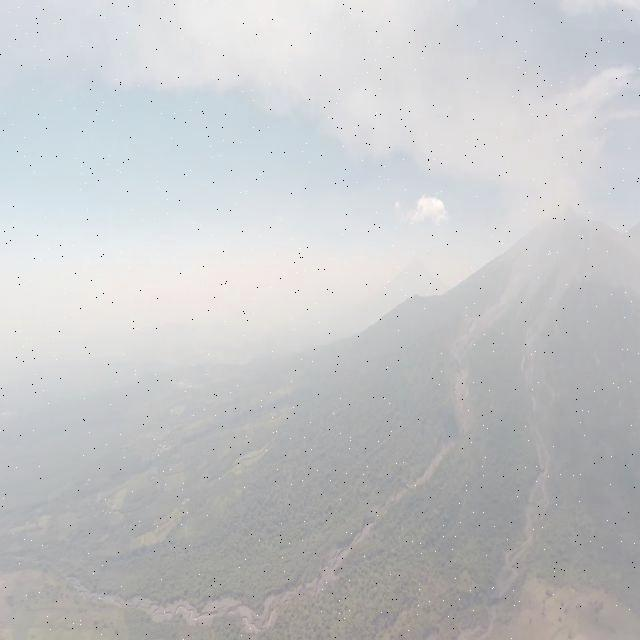Plume: (365, 53, 634, 231)
